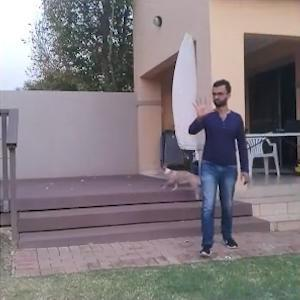follow_hand: (189, 90, 217, 121)
